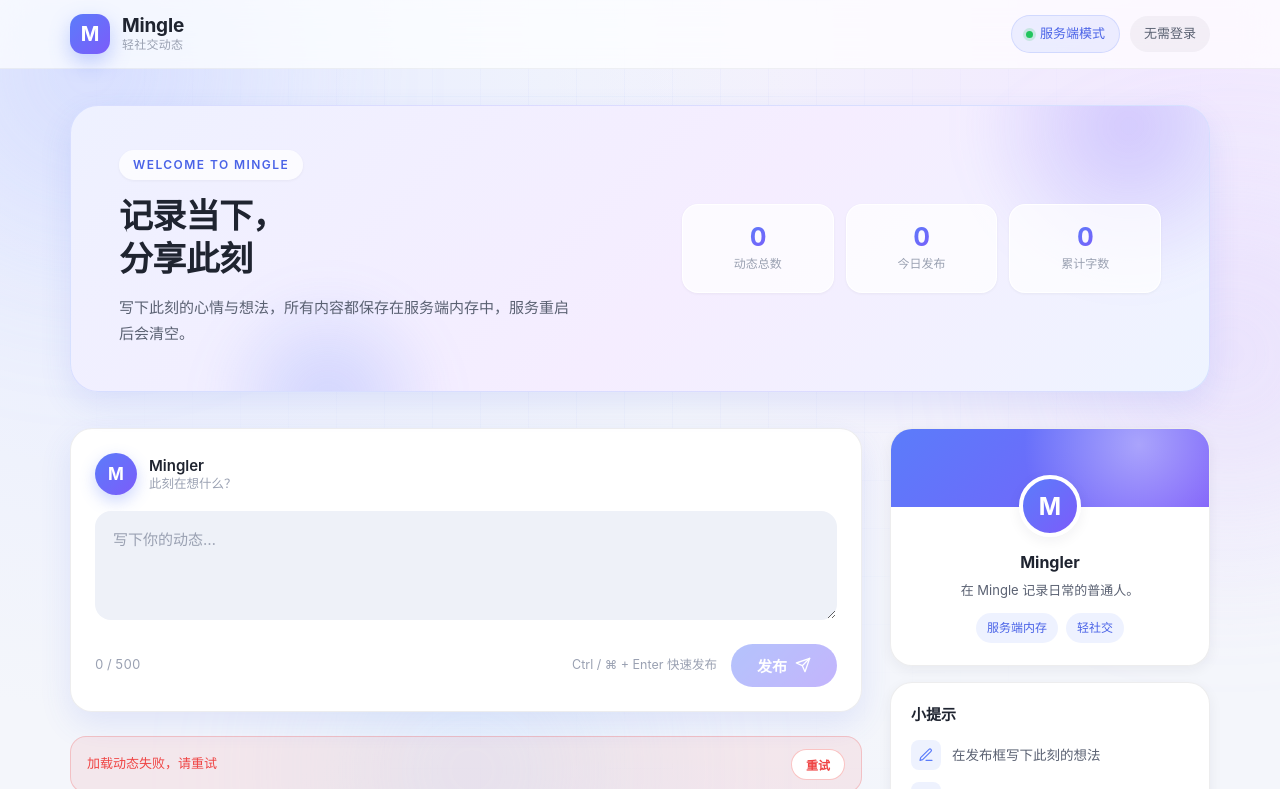
Scenario: App › 加载失败展示错误条，点击重试后恢复列表
The width and height of the screenshot is (1280, 789).
Check: the text with class "feed__error-text" reads "加载动态失败，请重试", box [87,755,217,771]
Click the button with class "feed__error-retry".
click(818, 764)  # box [791,749,845,780]
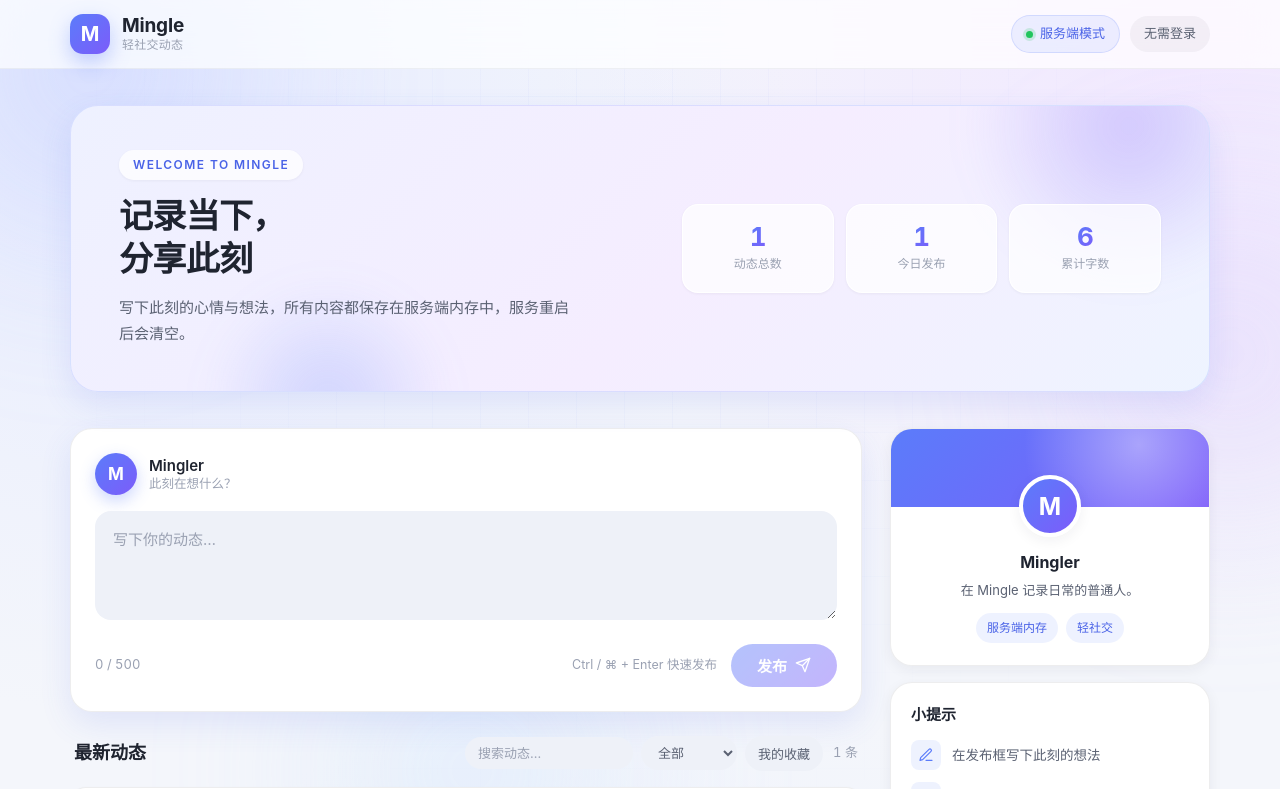
Check: the text with class "feed__count" reads "1 条", box [833,744,858,760]
